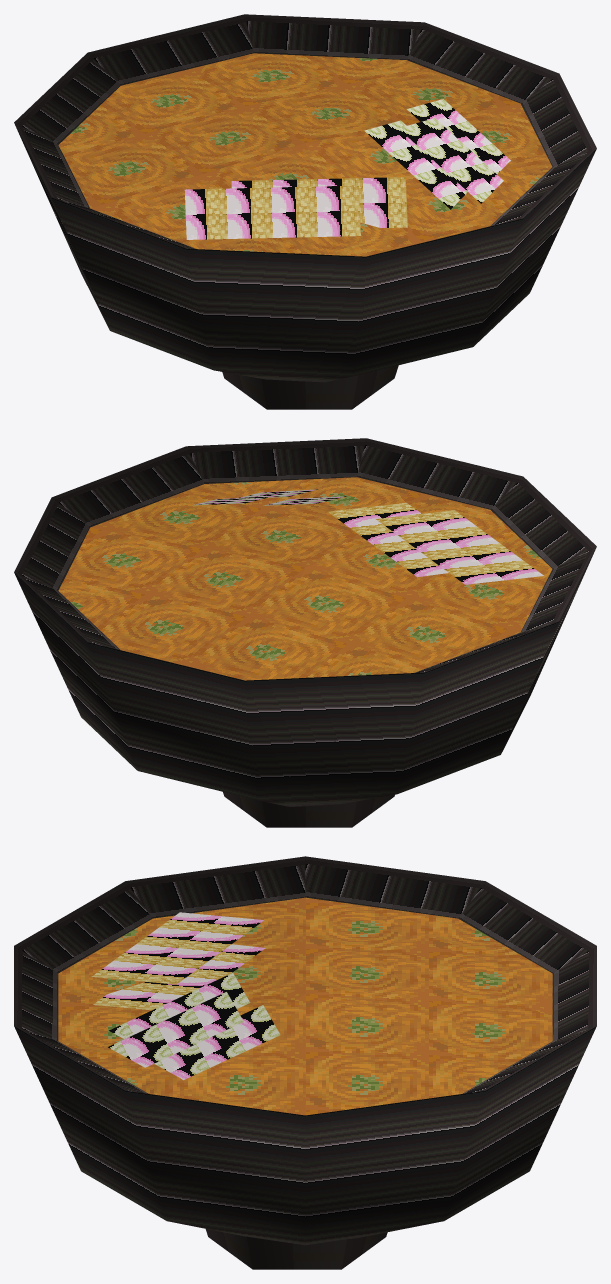
Rendered from soba_c.gltf.
3 views of the same model, one above another, from view 1: azimuth 30°, elevation 25°; view 2: azimuth 150°, elevation 25°; view 3: azimuth 270°, elevation 25° (orthographic). The views are drawn at different scales.
Parts seen in each view (by area): view 1: soba_c; view 2: soba_c; view 3: soba_c.
Boxes of the visible parts, x1,y1,x2,y2 form: soba_c: (14,14,596,409); soba_c: (14,438,596,827); soba_c: (14,856,596,1269).
Size of the model in its own units: 0.7769 by 0.4026 by 0.7388.
Materials: 4 (4 with a texture image).
